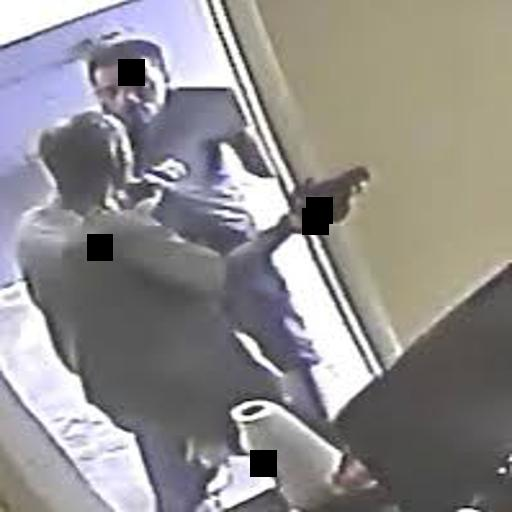Handgun: (282, 162, 369, 234)
